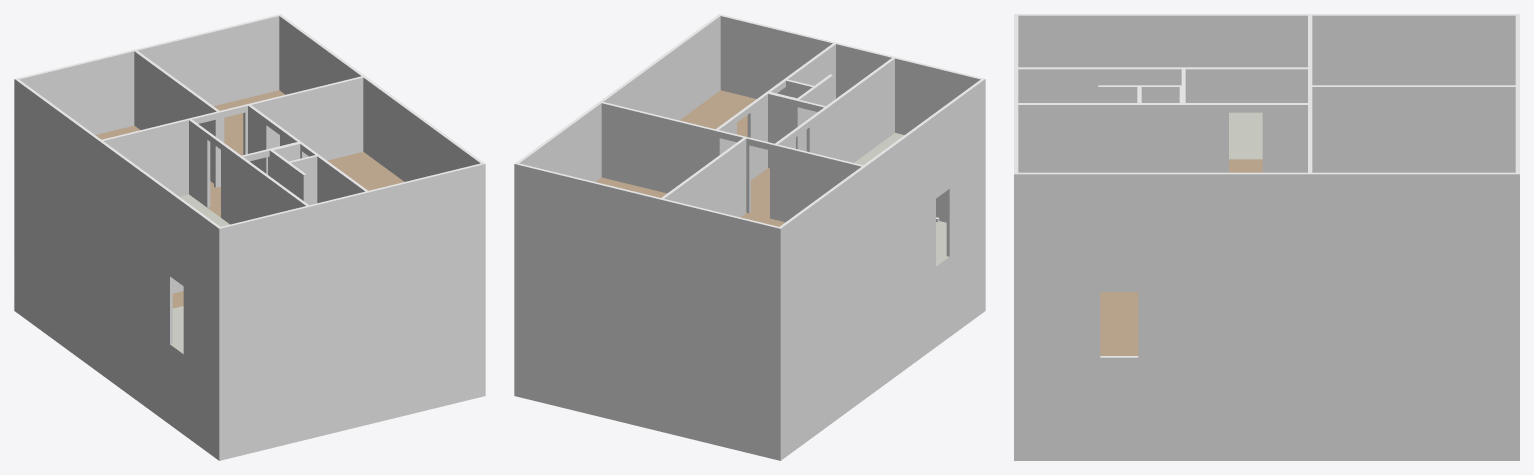
File: all-floors.gltf
3 views of the same model, side by side, from view 1: azimuth 30°, elevation 25°; view 2: azimuth 150°, elevation 25°; view 3: azimuth 270°, elevation 25° (orthographic). The views are drawn at different scales.
Parts seen in each view (by area): view 1: cube (×4), ExteriorWalls, SWall (×4), EWall, WWall, NWall, Wall3, Wall2, Wall1, Doorway2, Doorway3, 2Doors (+3 smaller); view 2: cube (×4), ExteriorWalls, SWall (×5), WWall, EWall, NWall, Wall3, Wall1, Wall2, Doorway, 2Doors, Doorway3 (+1 smaller); view 3: cube (×4), NWall, SWall (×6), ExteriorWalls, Wall1, Doorway3, Doorway5, Doorway2, EWall, WWall, Wall3.
Boxes of the visible parts, bbox=[...] form: cube (×4): bbox=[14, 90, 485, 460]; ExteriorWalls: bbox=[14, 156, 485, 383]; SWall (×4): bbox=[14, 78, 370, 305]; EWall: bbox=[217, 163, 485, 305]; WWall: bbox=[14, 14, 280, 156]; NWall: bbox=[278, 14, 485, 241]; Wall3: bbox=[247, 76, 365, 160]; Wall2: bbox=[98, 119, 188, 218]; Wall1: bbox=[134, 49, 219, 183]; Doorway2: bbox=[189, 119, 226, 218]; Doorway3: bbox=[248, 105, 285, 174]; 2Doors: bbox=[187, 103, 249, 187]; cube (×4): bbox=[514, 90, 985, 460]; ExteriorWalls: bbox=[514, 156, 985, 383]; SWall (×5): bbox=[751, 42, 985, 305]; WWall: bbox=[514, 163, 782, 305]; EWall: bbox=[719, 14, 981, 134]; NWall: bbox=[514, 14, 721, 241]; Wall3: bbox=[599, 101, 716, 193]; Wall1: bbox=[659, 137, 746, 276]; Wall2: bbox=[776, 144, 864, 222]; Doorway: bbox=[766, 93, 828, 168]; 2Doors: bbox=[714, 129, 776, 219]; Doorway3: bbox=[716, 103, 753, 180]; cube (×4): bbox=[1014, 112, 1519, 460]; NWall: bbox=[1014, 172, 1519, 269]; SWall (×6): bbox=[1014, 14, 1519, 291]; ExteriorWalls: bbox=[1014, 270, 1519, 365]; Wall1: bbox=[1309, 85, 1519, 172]; Doorway3: bbox=[1220, 103, 1308, 172]; Doorway5: bbox=[1095, 103, 1183, 172]; Doorway2: bbox=[1220, 67, 1308, 102]; EWall: bbox=[1014, 14, 1018, 269]; WWall: bbox=[1515, 14, 1519, 269]; Wall3: bbox=[1308, 103, 1312, 268].
Bounding box in the file's own units: 0.5625 × 0.4688 × 0.75.
12 materials, 1 textured.
